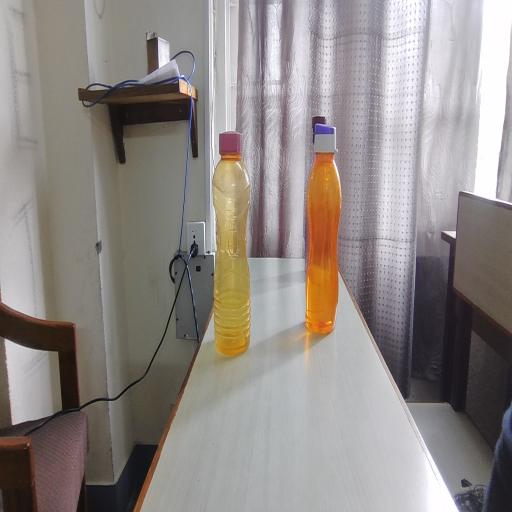Bottle: (212, 125, 259, 362), (305, 123, 351, 329)
